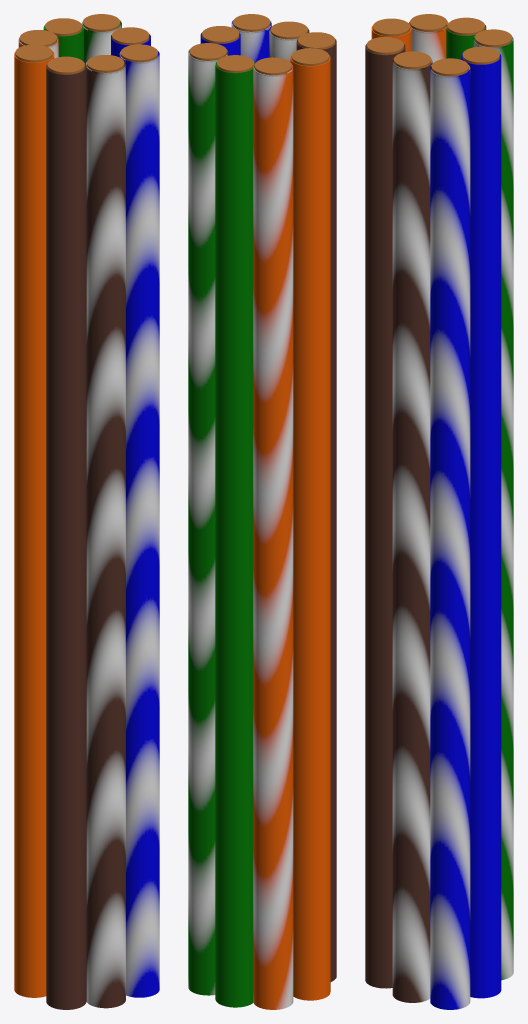
File: CableGulung.fbx
The picture shows the model from 3 angles, left to right: view 1: azimuth 30°, elevation 25°; view 2: azimuth 150°, elevation 25°; view 3: azimuth 330°, elevation 25°; orthographic projection.
Visible parts, largest first — view 1: Oren-Putih.015, Oren-Putih.014, Oren-Putih.012, Oren-Putih.009, Oren-Putih.010, Oren-Putih.013, Tembaga.009, Tembaga.015, Tembaga.012, Tembaga.011, Tembaga.010, Tembaga.014 (+2 smaller); view 2: Oren-Putih.008, Oren-Putih.013, Oren-Putih.009, Oren-Putih.010, Oren-Putih.015, Oren-Putih.012, Oren-Putih.014, Tembaga.008, Tembaga.009, Tembaga.013, Tembaga.012, Tembaga.011 (+3 smaller); view 3: Oren-Putih.012, Oren-Putih.014, Oren-Putih.011, Oren-Putih.015, Oren-Putih.010, Oren-Putih.008, Oren-Putih.013, Tembaga.009, Tembaga.012, Tembaga.011, Tembaga.014, Tembaga.010 (+3 smaller).
Boxes of the visible parts, x1,y1,x2,y2 form: Oren-Putih.015: (46, 63, 86, 1009); Oren-Putih.014: (86, 61, 125, 1008); Oren-Putih.012: (119, 51, 159, 997); Oren-Putih.009: (14, 51, 54, 997); Oren-Putih.010: (81, 20, 121, 63); Oren-Putih.013: (43, 25, 83, 61); Tembaga.009: (15, 44, 52, 62); Tembaga.015: (47, 56, 84, 74); Tembaga.012: (120, 44, 157, 62); Tembaga.011: (112, 27, 149, 45); Tembaga.010: (83, 14, 120, 31); Tembaga.014: (87, 55, 124, 72); Oren-Putih.008: (253, 64, 293, 1009); Oren-Putih.013: (215, 62, 255, 1007); Oren-Putih.009: (290, 55, 330, 1000); Oren-Putih.010: (188, 49, 228, 995); Oren-Putih.015: (296, 39, 336, 981); Oren-Putih.012: (231, 20, 271, 62); Oren-Putih.014: (269, 28, 309, 61); Tembaga.008: (254, 57, 291, 75); Tembaga.009: (291, 48, 329, 65); Tembaga.013: (217, 55, 254, 72); Tembaga.012: (233, 14, 270, 31); Tembaga.011: (202, 26, 239, 43); Oren-Putih.012: (430, 65, 470, 1009); Oren-Putih.014: (392, 58, 432, 1002); Oren-Putih.011: (461, 54, 501, 998); Oren-Putih.015: (365, 44, 405, 988); Oren-Putih.010: (473, 36, 513, 980); Oren-Putih.008: (408, 21, 448, 62); Oren-Putih.013: (446, 25, 486, 59); Tembaga.009: (373, 18, 410, 36); Tembaga.012: (431, 58, 468, 76); Tembaga.011: (462, 46, 499, 64); Tembaga.014: (394, 51, 431, 69); Tembaga.010: (475, 29, 512, 47).
Bounding box in the file's own units: 0.0189 × 0.1327 × 0.0174.
16 materials, 4 textured.
